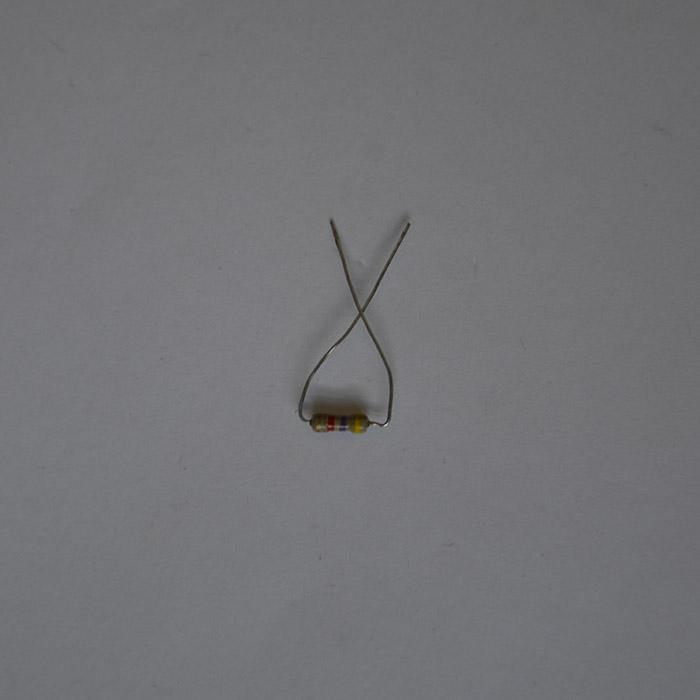resistor: (307, 410, 373, 433)
